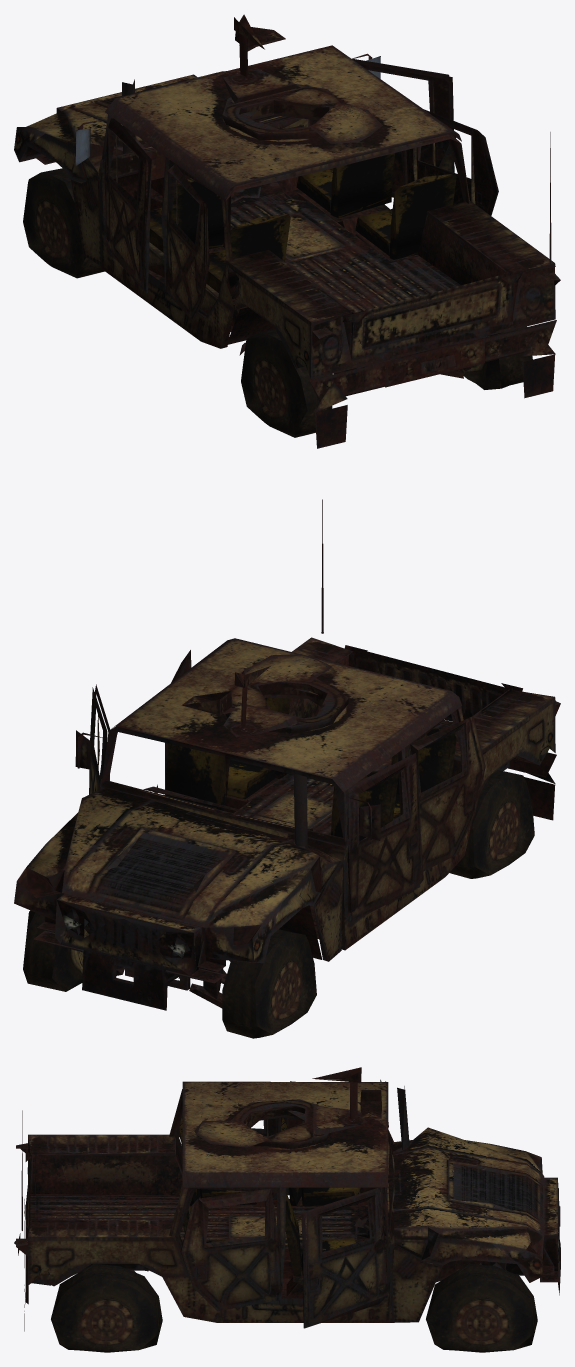
File: hummer_damaged_0001.gltf
3 views of the same model, one above another, from view 1: azimuth 30°, elevation 25°; view 2: azimuth 150°, elevation 25°; view 3: azimuth 270°, elevation 25° (orthographic). The views are drawn at different scales.
Visible parts, largest first — view 1: Hummer:Hummer0333; view 2: Hummer:Hummer0333; view 3: Hummer:Hummer0333.
Part boxes in pixels (box(x1,y1,x2,y2)): Hummer:Hummer0333: box(14, 14, 560, 448); Hummer:Hummer0333: box(14, 499, 560, 1038); Hummer:Hummer0333: box(14, 1067, 560, 1352).
Size of the model in its own units: 4.01 by 3.37 by 6.6.
